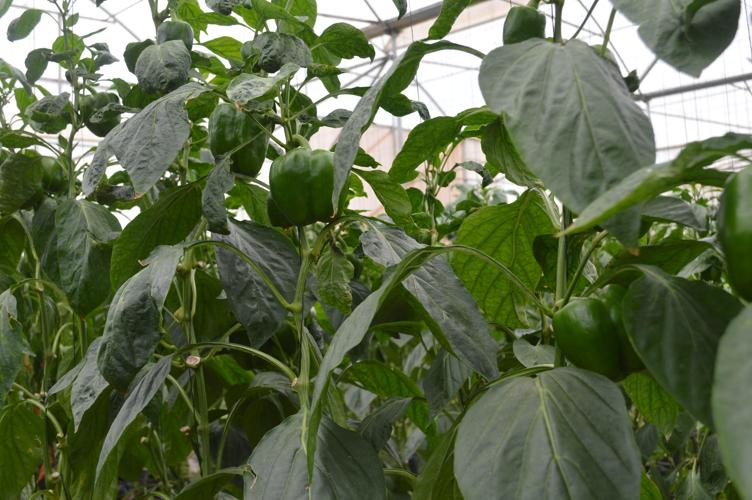BellPepper: (546, 286, 639, 376), (266, 151, 342, 224), (201, 109, 263, 173)
